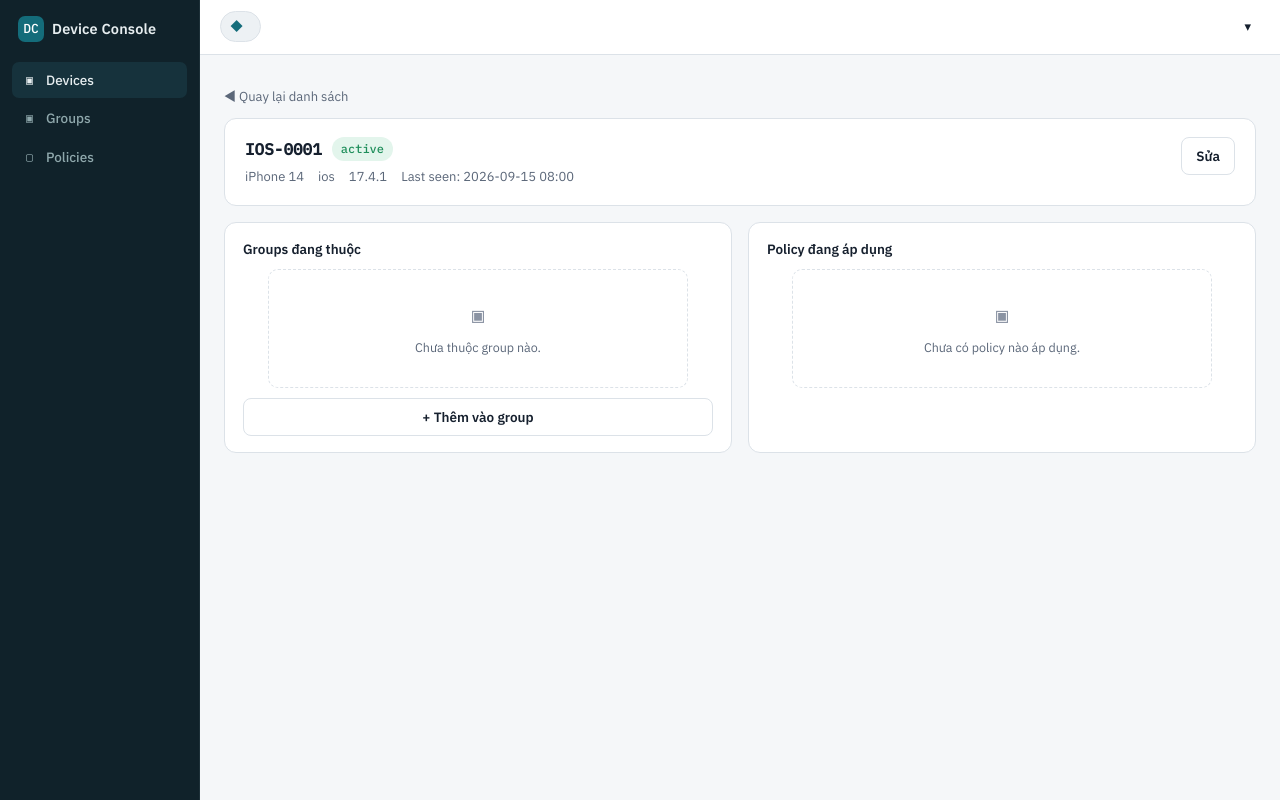
Test: DeviceDetailView › shows a working Edit button for a non-retired device that opens the prefilled form
Click the button with test id "device-detail-edit-button". click: click(1208, 156)
box: [1181,137,1235,175]
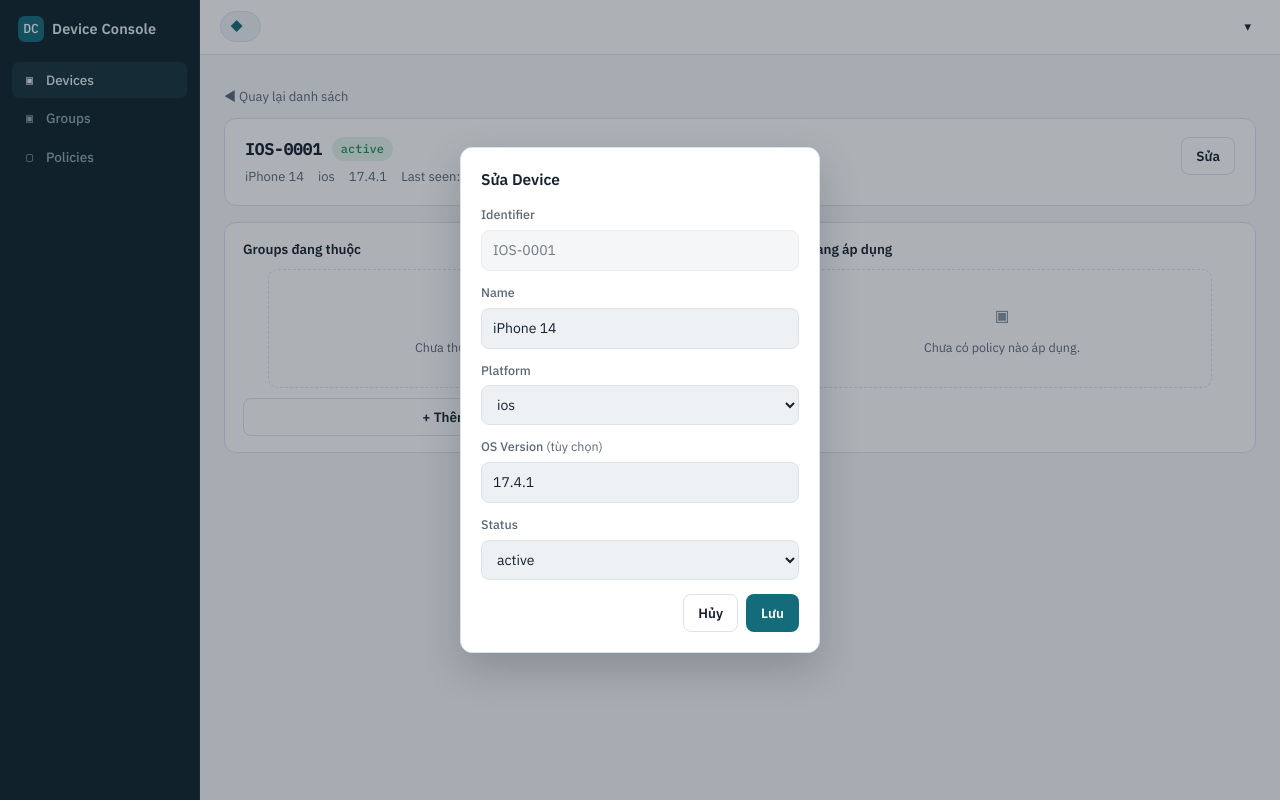
Result: the element with test id "device-form-modal" is shown
Result: the field with test id "device-form-identifier" holds "IOS-0001" at [481,230,799,271]
